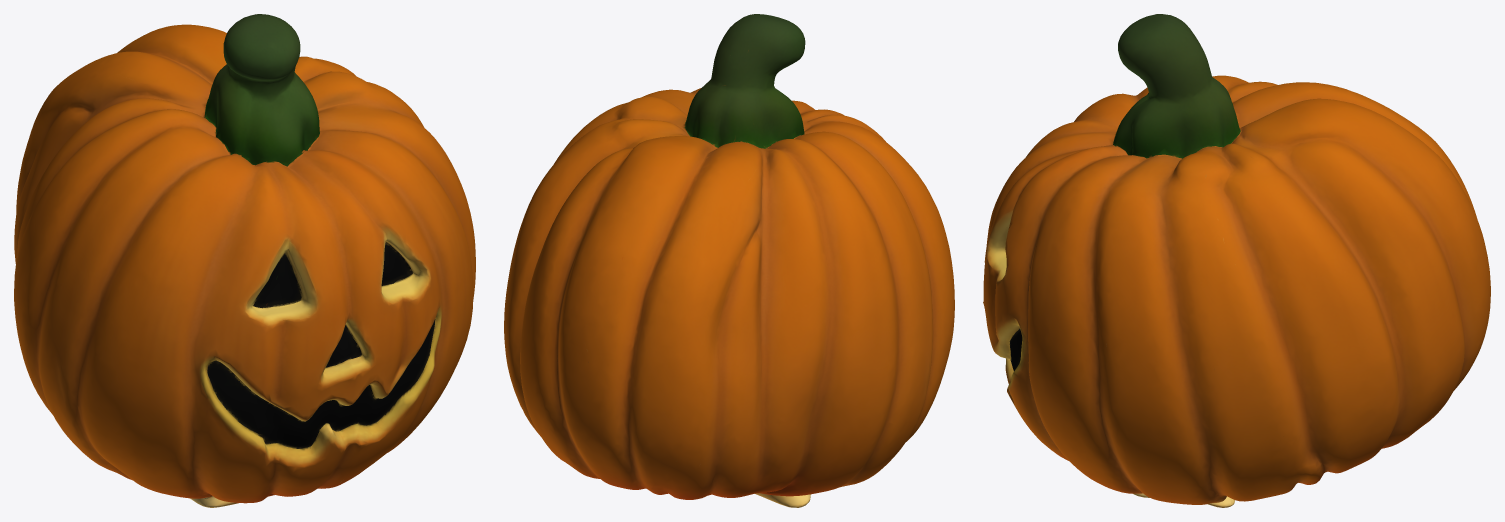
Rendered from nursery-pumpkin.glb.
The picture shows the model from 3 angles, left to right: view 1: azimuth 30°, elevation 25°; view 2: azimuth 150°, elevation 25°; view 3: azimuth 270°, elevation 25°; orthographic projection. The views are drawn at different scales.
Bounding box in the file's own units: 0.7685 × 0.8859 × 0.8775.
1 material, 1 textured.
